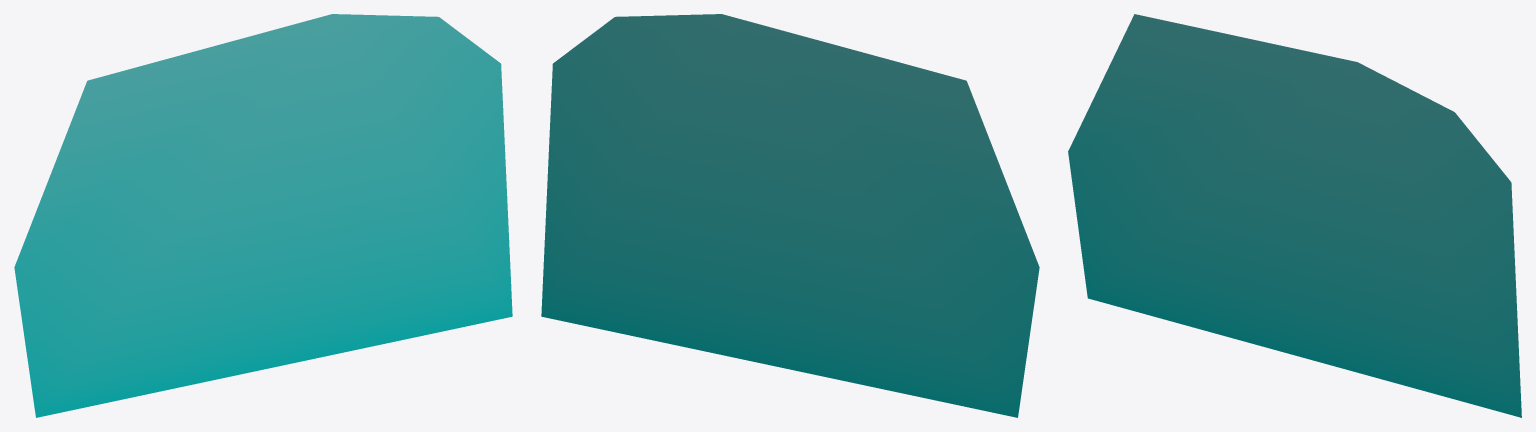
File: Sea_Thrift_vkbgaihha_High_vkbgaihha_VarA_LOD3.fbx
3 views of the same model, side by side, from view 1: azimuth 30°, elevation 25°; view 2: azimuth 150°, elevation 25°; view 3: azimuth 330°, elevation 25° (orthographic). The views are drawn at different scales.
Parts seen in each view (by area): view 1: _nxyh_VarA_LOD4; view 2: _nxyh_VarA_LOD4; view 3: _nxyh_VarA_LOD4.
Part boxes in pixels (x1=…): _nxyh_VarA_LOD4: x1=14, y1=14, x2=512, y2=417; _nxyh_VarA_LOD4: x1=541, y1=14, x2=1039, y2=417; _nxyh_VarA_LOD4: x1=1068, y1=14, x2=1521, y2=417.
Bounding box in the file's own units: 29.85 × 19.85 × 0.
